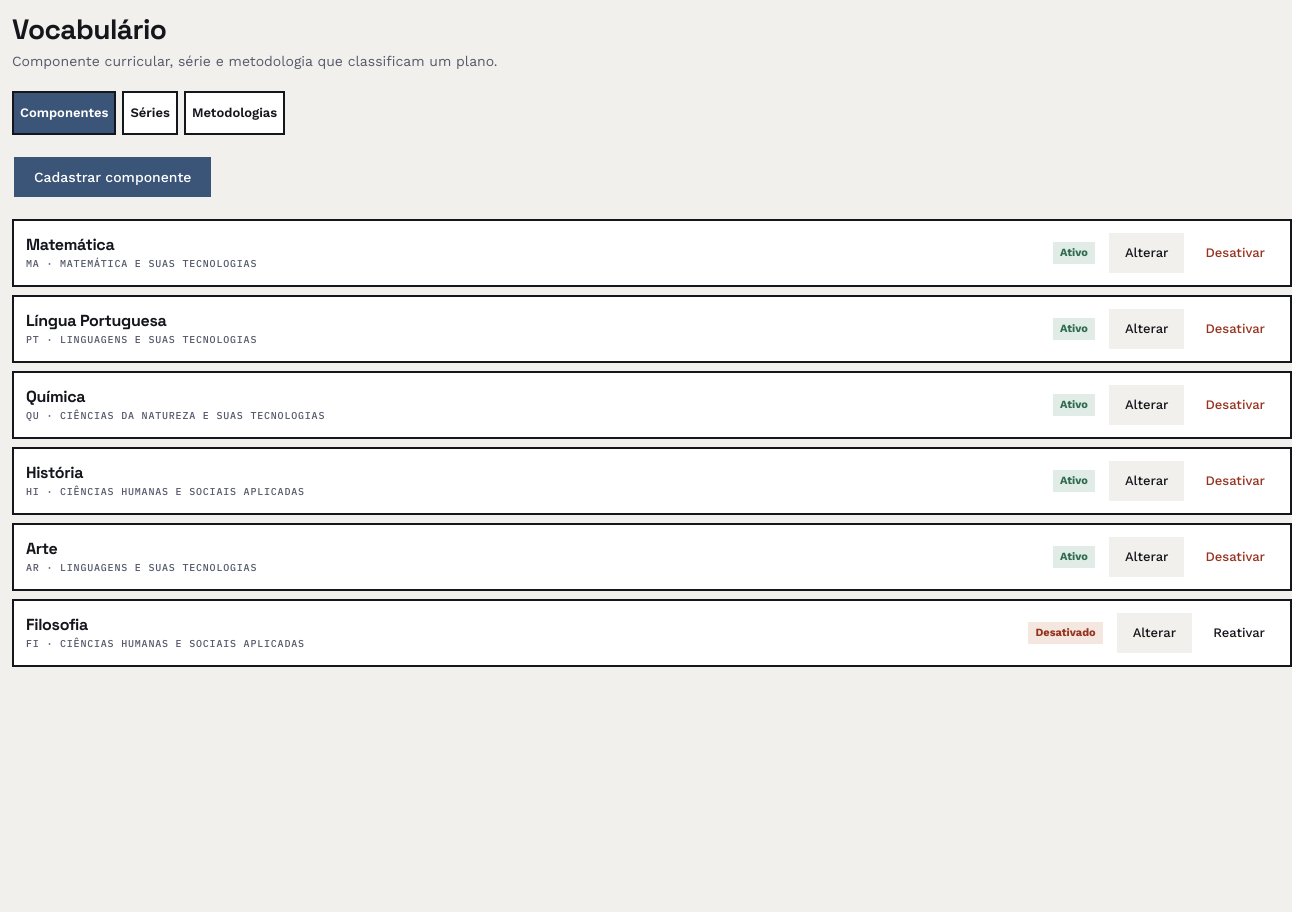
Test case: PaginaVocabulario › troca de aba e mostra a lista daquele tipo
Click the button "Séries" at (150, 113), box x1=122 y1=91 x2=178 y2=135
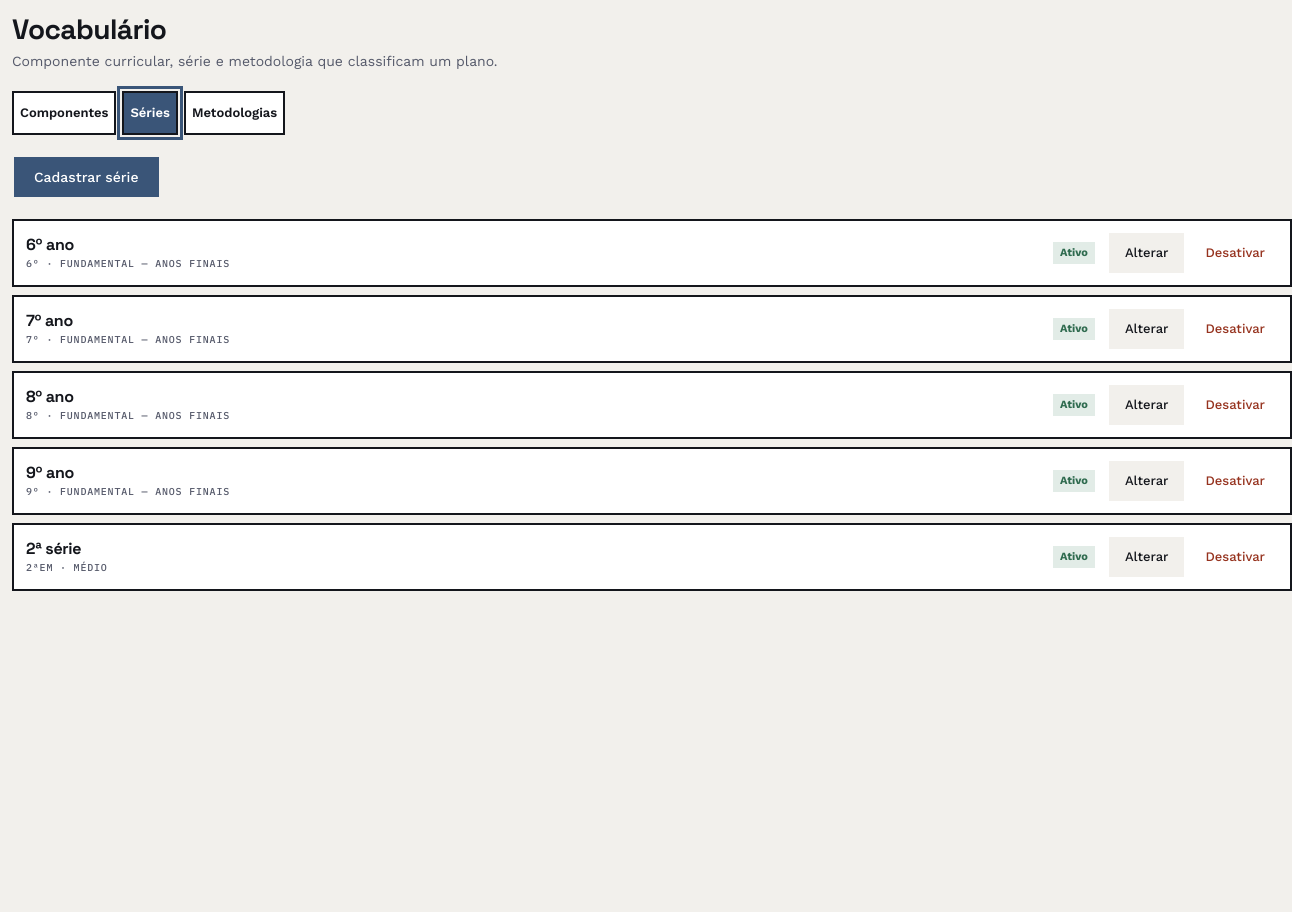
Result: the heading "6º ano" is shown at x1=26 y1=234 x2=74 y2=255
